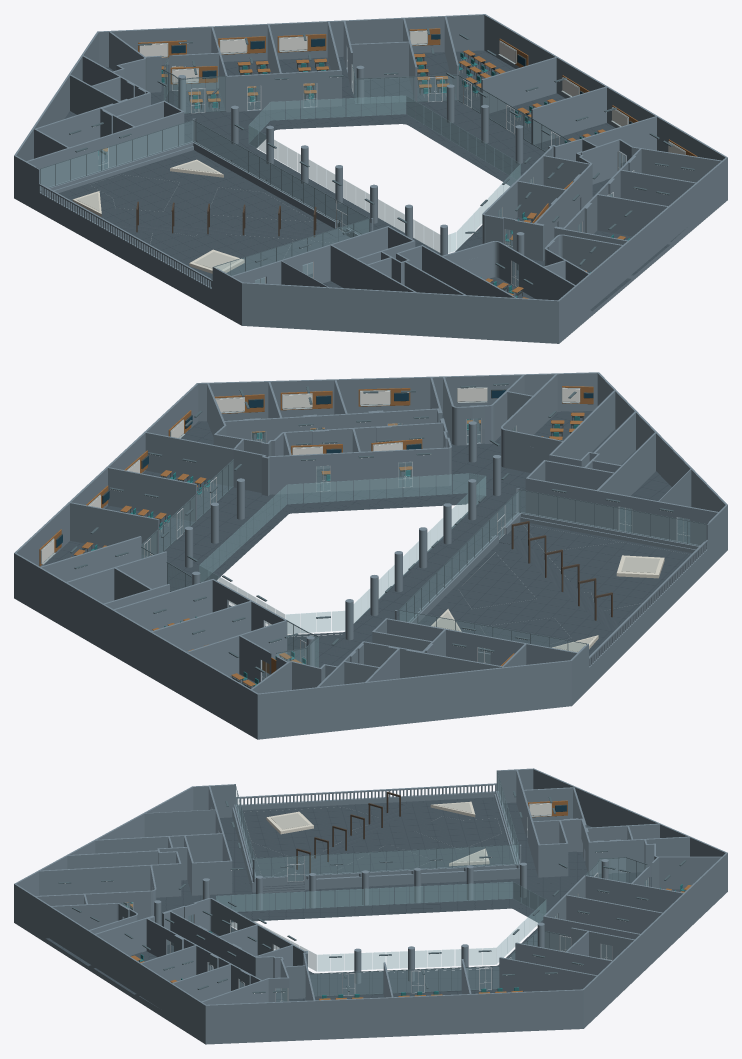
File: NVHSV_Tang6_V3_modern_v2.glb
3 renders of one model, top to bottom at view 1: azimuth 30°, elevation 25°; view 2: azimuth 150°, elevation 25°; view 3: azimuth 270°, elevation 25°, orthographic. The views are drawn at different scales.
Parts seen in each view (by area): view 1: Original architectural shell, Garden raised ground, Garden paving island 4, Garden paving island 1, Garden paving island 2, Garden stone base, Garden solid wall 2-0, 606 floor finish, 605 floor finish, 607 floor finish, Garden solid wall 1-0, 602 floor finish (+2 smaller); view 2: Original architectural shell, Garden raised ground, Garden paving island 4, Garden paving island 2, Garden paving island 1, Garden stone base, Garden paving island 3, Garden solid wall 3-0, Garden solid wall 2-0, 607 floor finish, 608 floor finish; view 3: Original architectural shell, Garden raised ground, Garden paving island 4, Garden paving island 1, Garden paving island 2, Garden stone base, Garden paving island 3.
Boxes of the visible parts, <box> form: Original architectural shell: <box>14,14,727,343</box>; Garden raised ground: <box>50,152,346,251</box>; Garden paving island 4: <box>150,232,293,283</box>; Garden paving island 1: <box>90,174,179,211</box>; Garden paving island 2: <box>210,187,313,221</box>; Garden stone base: <box>115,224,332,237</box>; Garden solid wall 2-0: <box>193,141,337,228</box>; 606 floor finish: <box>456,51,513,112</box>; 605 floor finish: <box>414,52,448,99</box>; 607 floor finish: <box>489,94,564,141</box>; Garden solid wall 1-0: <box>41,141,193,192</box>; 602 floor finish: <box>169,89,223,113</box>; Original architectural shell: <box>14,372,727,739</box>; Garden raised ground: <box>423,525,641,655</box>; Garden paving island 4: <box>546,542,690,610</box>; Garden paving island 2: <box>459,553,536,608</box>; Garden paving island 1: <box>481,617,570,646</box>; Garden stone base: <box>508,538,619,630</box>; Garden paving island 3: <box>524,525,620,551</box>; Garden solid wall 3-0: <box>521,512,706,549</box>; Garden solid wall 2-0: <box>409,535,498,623</box>; 607 floor finish: <box>107,506,192,553</box>; 608 floor finish: <box>146,471,230,517</box>; Original architectural shell: <box>14,768,727,1044</box>; Garden raised ground: <box>271,799,510,877</box>; Garden paving island 4: <box>243,807,379,861</box>; Garden paving island 1: <box>413,816,501,849</box>; Garden paving island 2: <box>332,844,431,873</box>; Garden stone base: <box>289,804,412,876</box>; Garden paving island 3: <box>251,842,301,876</box>.
Size of the model in its own units: 78.55 by 6.04 by 99.92.
Materials: 38 (21 with a texture image).
